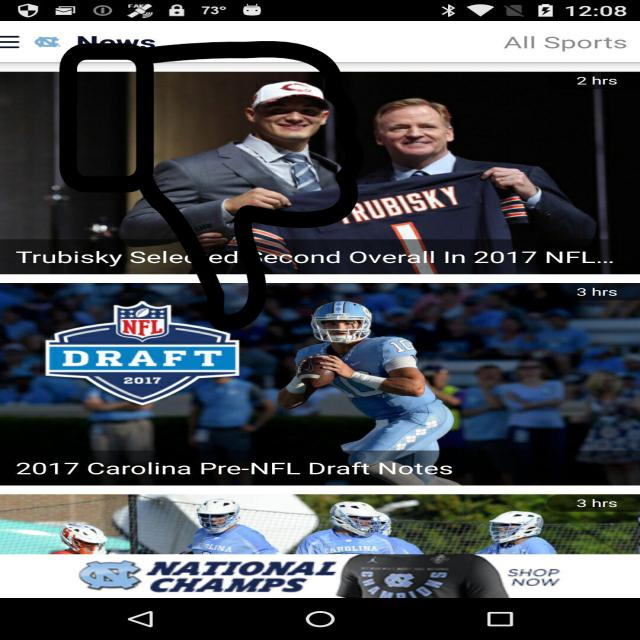obstruction: (55, 41, 368, 331)
